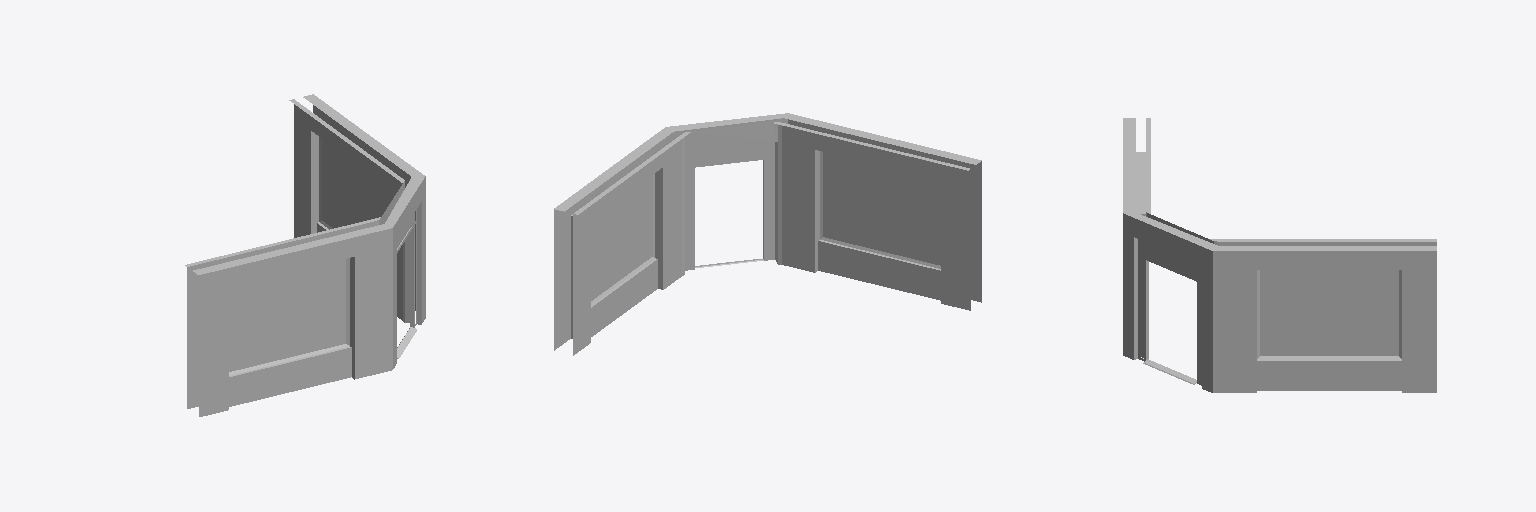
Rendered from Building_Bottom_Corner_B_LOD1.obj.
3 renders of one model, left to right at view 1: azimuth 30°, elevation 25°; view 2: azimuth 150°, elevation 25°; view 3: azimuth 270°, elevation 25°, orthographic.
Parts seen in each view (by area): view 1: Building_Bottom_Corner_B_LOD1 Building_Bottom_Corner_B; view 2: Building_Bottom_Corner_B_LOD1 Building_Bottom_Corner_B; view 3: Building_Bottom_Corner_B_LOD1 Building_Bottom_Corner_B.
Boxes of the visible parts, <box> form: Building_Bottom_Corner_B_LOD1 Building_Bottom_Corner_B: <box>185,94,425,416</box>; Building_Bottom_Corner_B_LOD1 Building_Bottom_Corner_B: <box>554,113,981,355</box>; Building_Bottom_Corner_B_LOD1 Building_Bottom_Corner_B: <box>1123,118,1436,392</box>.
Bounding box in the file's own units: 700 × 350 × 700.